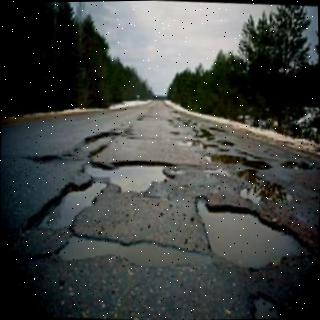pothole: (194, 195, 310, 269), (54, 236, 213, 269), (25, 180, 107, 229), (21, 132, 121, 161), (86, 161, 175, 191), (250, 291, 280, 318)
